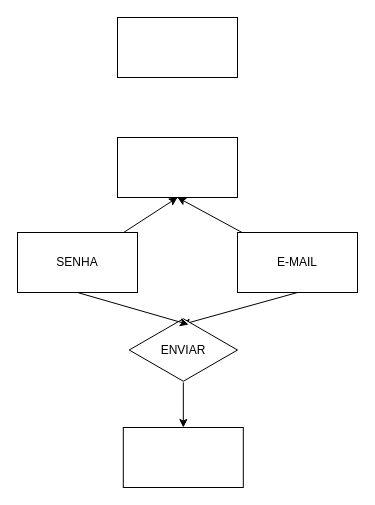
The diagram is 375 pixels wide and 505 high, and some of its shapes have lost their labels. The centre of each missing label's shape, as x and y in pixels:
"CABECALHO" belongs at (x=177, y=47).
"USUARIO" belongs at (x=177, y=167).
